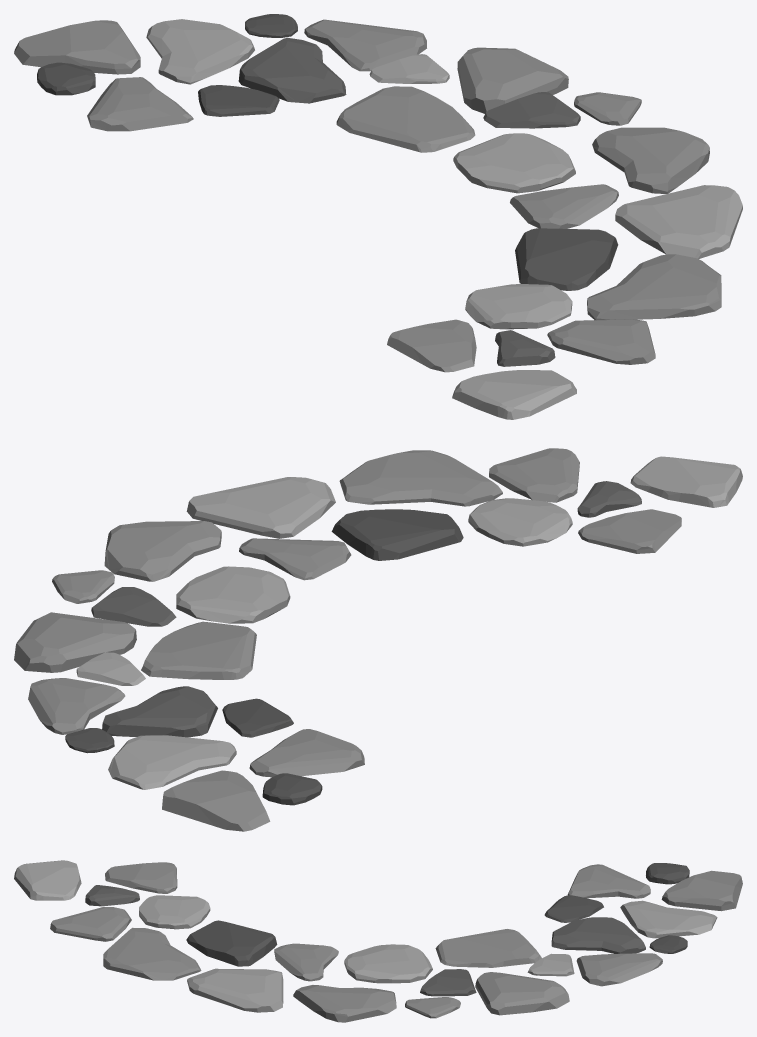
File: CobbleStoneD01.fbx
The picture shows the model from 3 angles, top to bottom: view 1: azimuth 30°, elevation 25°; view 2: azimuth 150°, elevation 25°; view 3: azimuth 270°, elevation 25°; orthographic projection. The views are drawn at different scales.
Visible parts, largest first — view 1: LOD0; view 2: LOD0; view 3: LOD0.
Part boxes in pixels (x1,y1,x2,y2): LOD0: (14,14,742,419); LOD0: (14,448,742,831); LOD0: (14,860,742,1022).
Size of what is drawn, in the model's own units: 561 by 1107 by 21.76.
